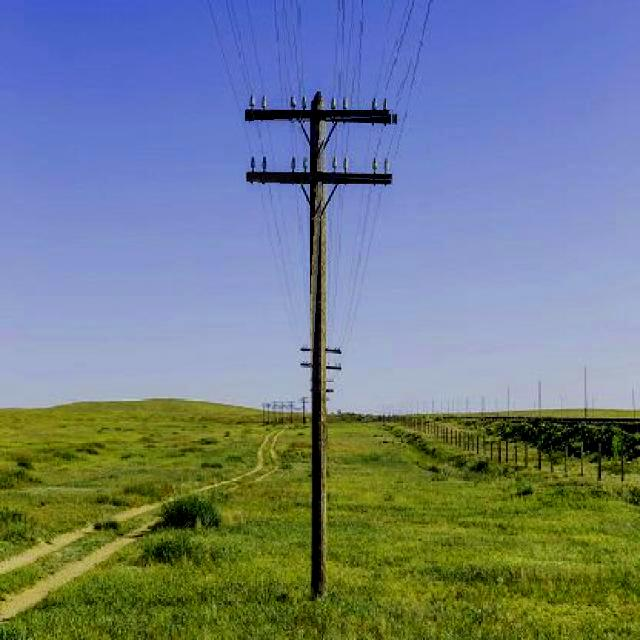crossarm: (247, 173, 392, 184), (246, 110, 390, 121), (325, 348, 341, 352), (301, 347, 311, 351), (301, 364, 312, 367), (326, 367, 340, 369), (326, 389, 334, 391)
pole: (310, 92, 324, 509), (303, 397, 305, 424)
wire: (393, 0, 432, 159), (387, 0, 415, 102), (385, 1, 409, 85), (290, 1, 300, 111), (275, 0, 285, 110), (356, 0, 363, 112), (283, 0, 293, 75), (343, 1, 344, 113)
